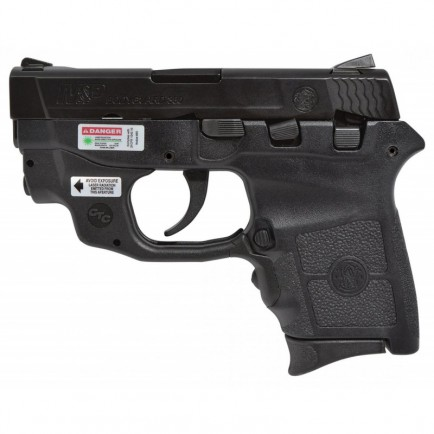Arma Real: (8, 56, 428, 378)
